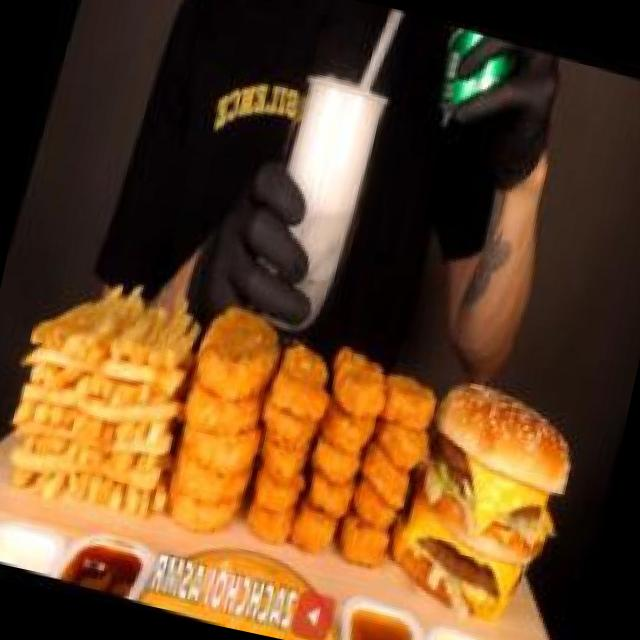Hashbrown: (140, 271, 308, 558)
burger: (378, 354, 594, 633)
french fries: (0, 236, 217, 532)
nugget: (224, 318, 456, 596)
sprite: (220, 0, 423, 347)
